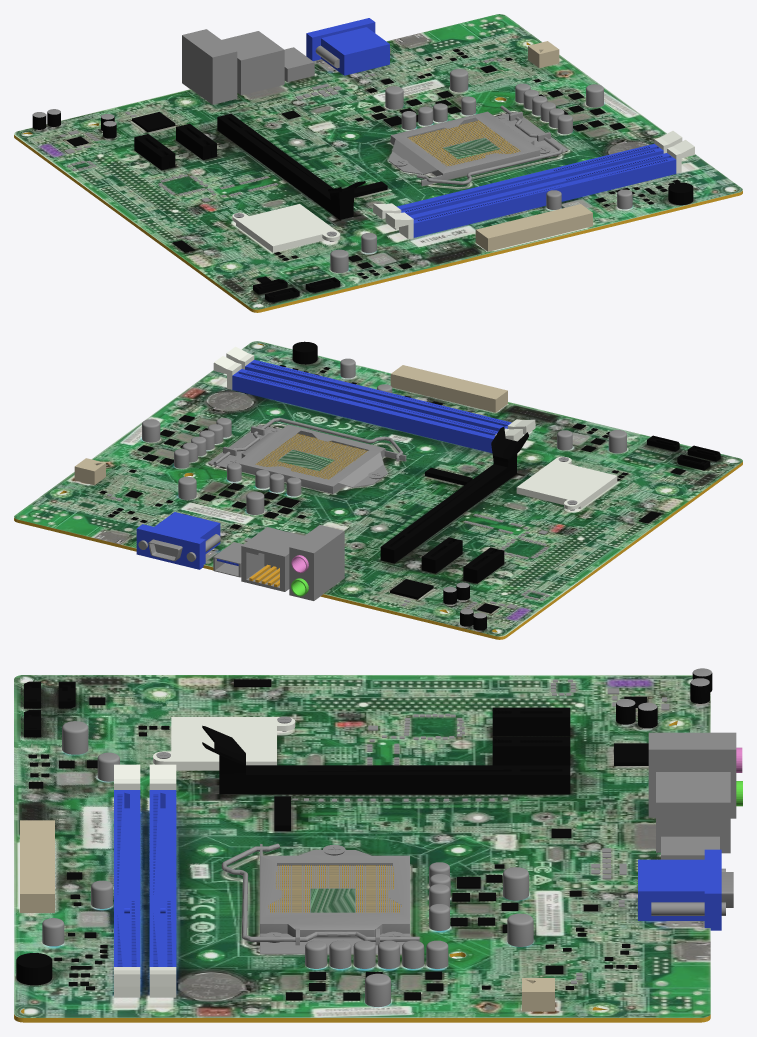
Rendered from plyta_gl.fbx.
3 views of the same model, one above another, from view 1: azimuth 30°, elevation 25°; view 2: azimuth 150°, elevation 25°; view 3: azimuth 270°, elevation 25° (orthographic). The views are drawn at different scales.
Parts seen in each view (by area): view 1: Plane.001; view 2: Plane.001; view 3: Plane.001.
Part boxes in pixels (x1=…): Plane.001: x1=14, y1=14, x2=742, y2=312; Plane.001: x1=14, y1=341, x2=742, y2=639; Plane.001: x1=14, y1=668, x2=742, y2=1022.
Size of the model in its own units: 460 by 58.69 by 413.
Materials: 10 (1 with a texture image).
